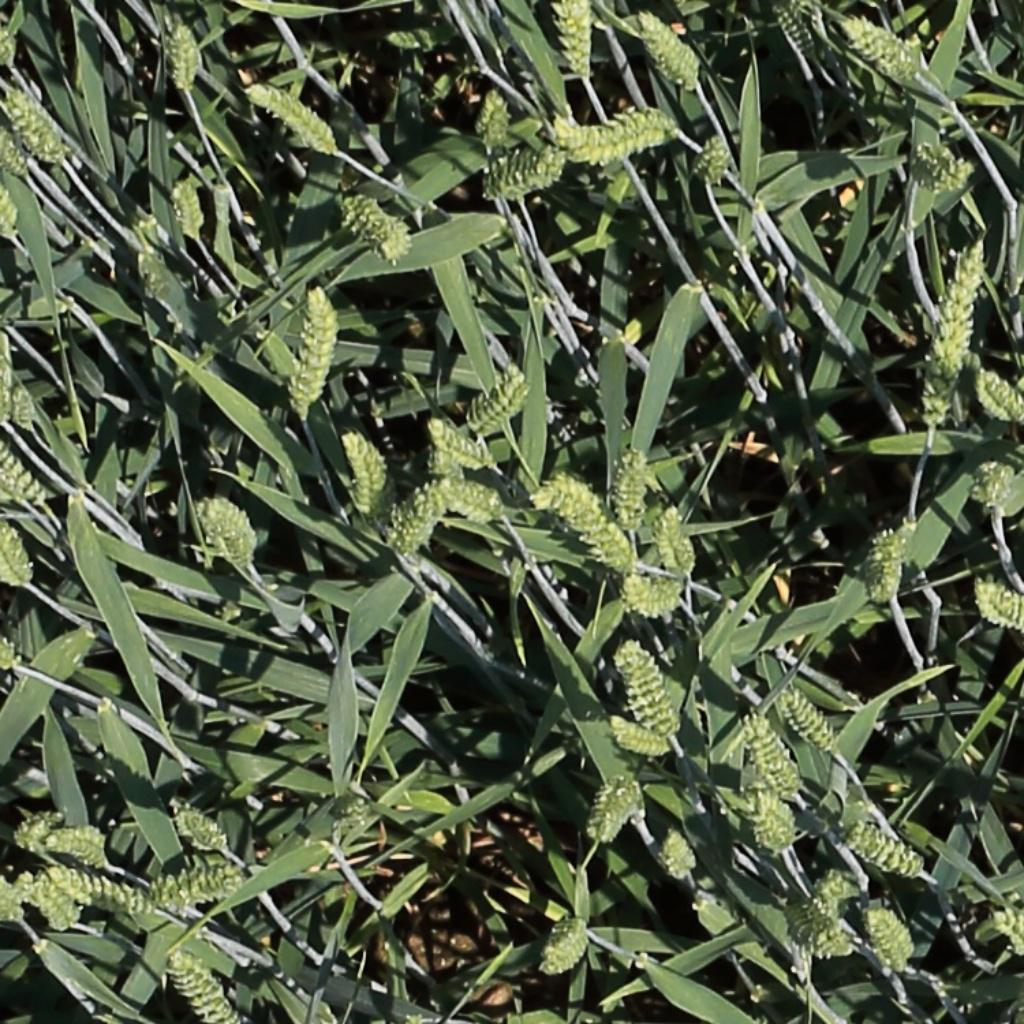0-0: (923, 242, 989, 443), (537, 476, 640, 573), (558, 107, 680, 160), (247, 81, 339, 151), (619, 641, 678, 741), (637, 6, 705, 92), (166, 948, 236, 1022), (338, 191, 411, 261), (45, 871, 155, 917), (745, 711, 801, 800), (1, 84, 64, 162), (779, 686, 845, 760), (845, 17, 921, 81), (462, 364, 535, 429), (299, 281, 335, 412), (784, 902, 856, 966), (904, 138, 976, 201), (393, 481, 446, 561), (847, 824, 924, 879), (573, 773, 629, 848), (199, 495, 255, 567), (430, 416, 505, 469), (341, 427, 383, 521), (446, 481, 514, 538), (487, 147, 567, 195), (26, 873, 84, 939), (866, 903, 917, 977), (808, 865, 866, 927), (0, 435, 46, 506), (147, 875, 243, 909), (603, 752, 648, 824), (748, 790, 797, 856), (771, 1, 823, 62), (660, 499, 696, 584), (559, 0, 595, 84), (868, 525, 906, 604), (974, 365, 1024, 424), (170, 805, 230, 853), (619, 442, 649, 536), (539, 924, 592, 977), (973, 580, 1024, 632), (170, 172, 206, 243), (0, 507, 31, 588), (610, 719, 674, 756), (662, 824, 699, 887), (19, 809, 68, 855), (170, 16, 197, 98), (0, 441, 30, 506), (481, 87, 510, 154), (976, 458, 1013, 509), (0, 120, 31, 180), (623, 580, 682, 611), (424, 445, 466, 488), (703, 128, 731, 191), (992, 906, 1024, 961), (9, 379, 38, 439), (52, 832, 113, 860), (0, 177, 17, 270), (0, 865, 25, 925), (0, 330, 15, 428), (331, 795, 373, 829), (0, 0, 17, 69), (0, 632, 20, 687)
